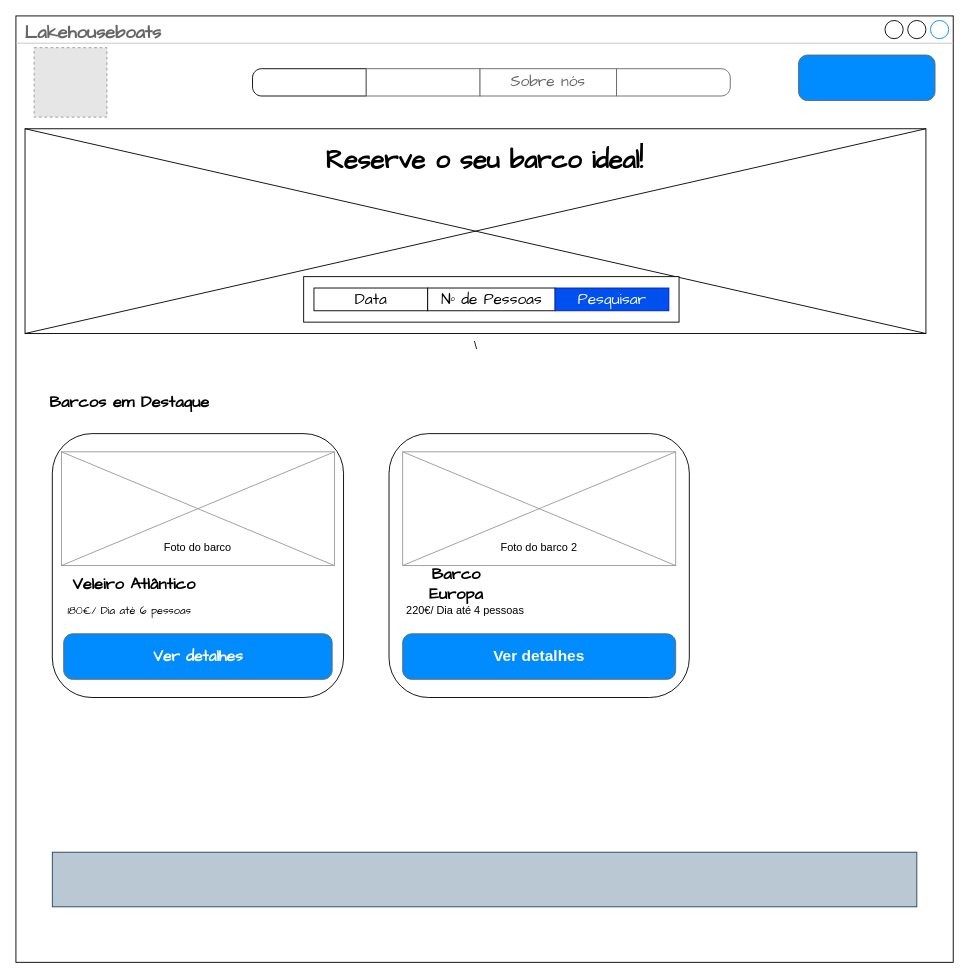
This 969x978 diagram has some shape labels left out. Grey dashed boxes stand in for pictures. Each missing label, with the centre of its shape:
Barcos: [422,82]
Contactos: [673,82]
Entrar / Registar: [866,77]
Início: [309,82]
Rodapé: Contactos | Redes Sociais | Termos e Privacidade: [484,879]
